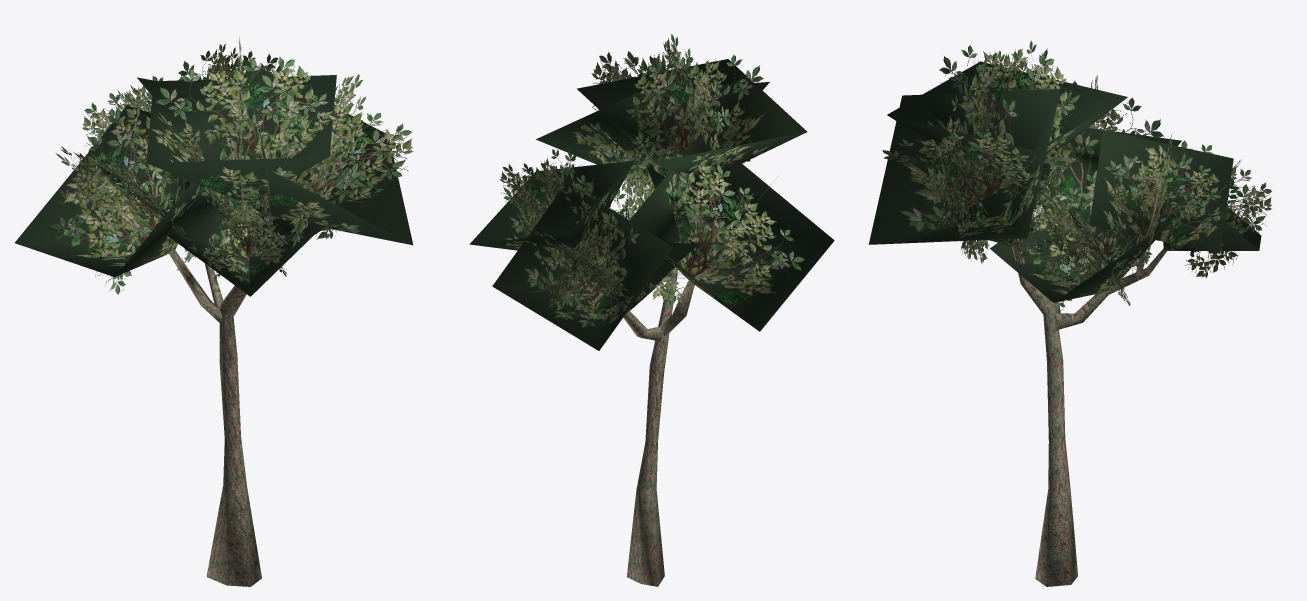
The model's file is decd_dogwoodtreeleaves_a1_l0.fbx.
The picture shows the model from 3 angles, left to right: view 1: azimuth 30°, elevation 25°; view 2: azimuth 150°, elevation 25°; view 3: azimuth 270°, elevation 25°; orthographic projection. The views are drawn at different scales.
Visible parts, largest first — view 1: mesh_node; view 2: mesh_node; view 3: mesh_node.
Boxes of the visible parts, <box> form: mesh_node: <box>15,37,413,586</box>; mesh_node: <box>469,34,834,586</box>; mesh_node: <box>868,40,1271,586</box>.
Bounding box in the file's own units: 13.28 × 20.95 × 15.36.
